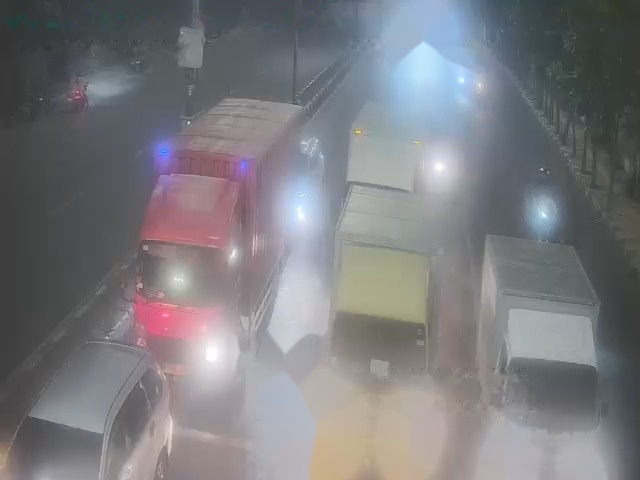Mobil: (4, 339, 164, 477)
Motor: (529, 192, 556, 230), (297, 174, 311, 223)
Truk: (138, 89, 312, 399), (323, 183, 444, 468), (477, 228, 605, 477), (342, 89, 421, 202)
